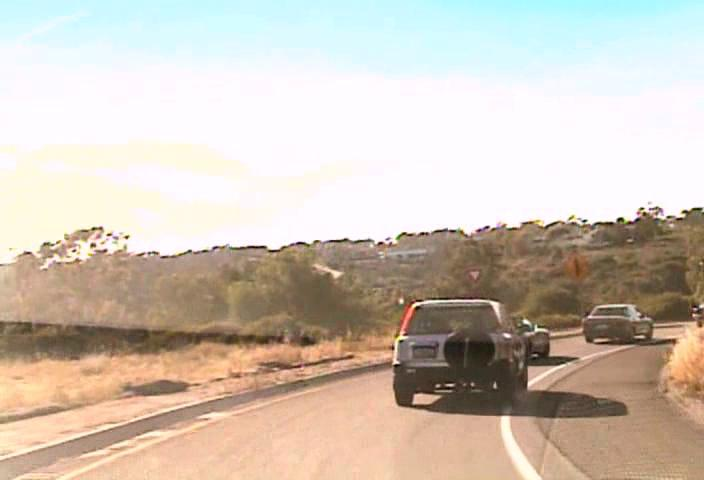yield: (464, 267, 483, 284)
